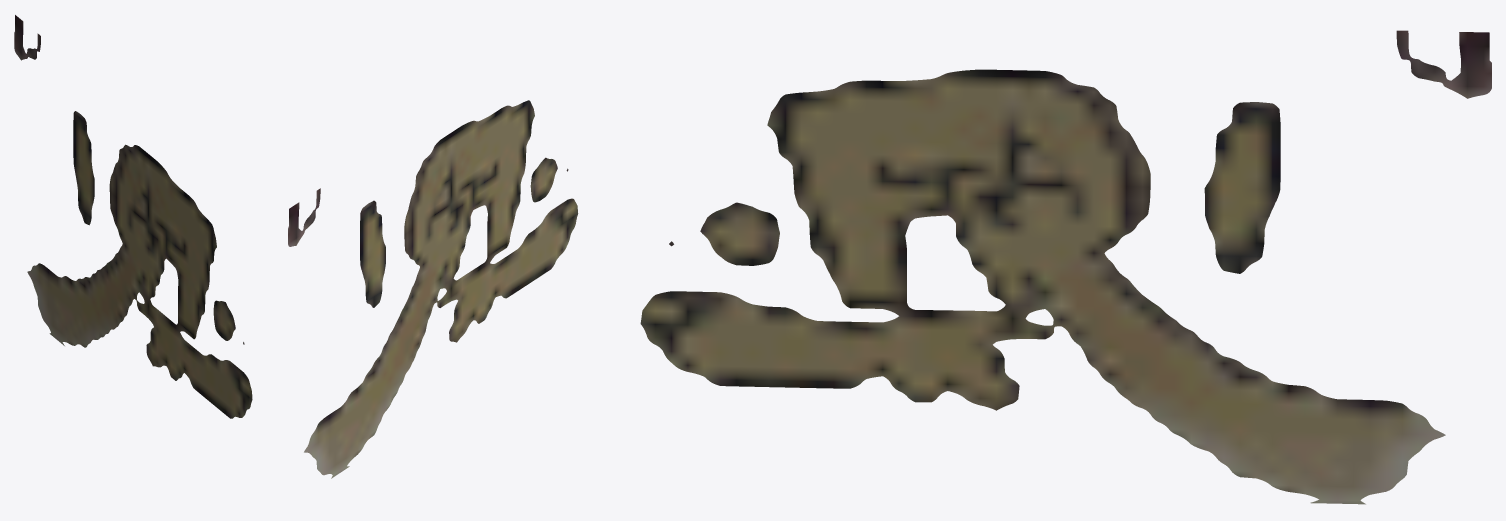
File: Urban_GraffitiAlt2_Model.fbx
3 renders of one model, left to right at view 1: azimuth 30°, elevation 25°; view 2: azimuth 150°, elevation 25°; view 3: azimuth 270°, elevation 25°, orthographic. The views are drawn at different scales.
Visible parts, largest first — view 1: Urban_GraffitiAlt2_Mesh; view 2: Urban_GraffitiAlt2_Mesh; view 3: Urban_GraffitiAlt2_Mesh.
Boxes of the visible parts, <box> form: Urban_GraffitiAlt2_Mesh: <box>14,15,252,418</box>; Urban_GraffitiAlt2_Mesh: <box>288,100,578,478</box>; Urban_GraffitiAlt2_Mesh: <box>640,30,1491,504</box>.
Size of the model in its own units: 0.0538 by 0.6413 by 1.07.
